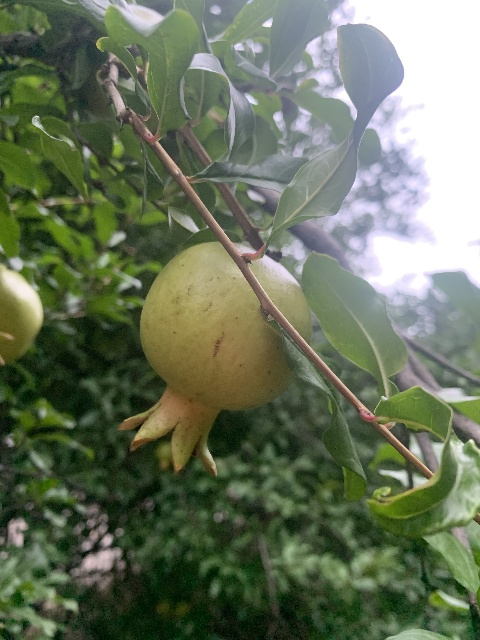mid-growth: (118, 240, 312, 477)
